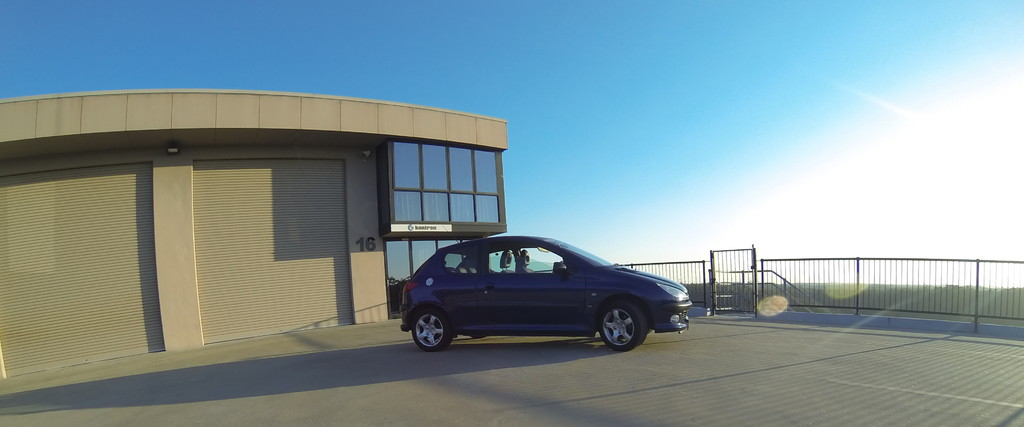cars: (404, 230, 691, 352)
